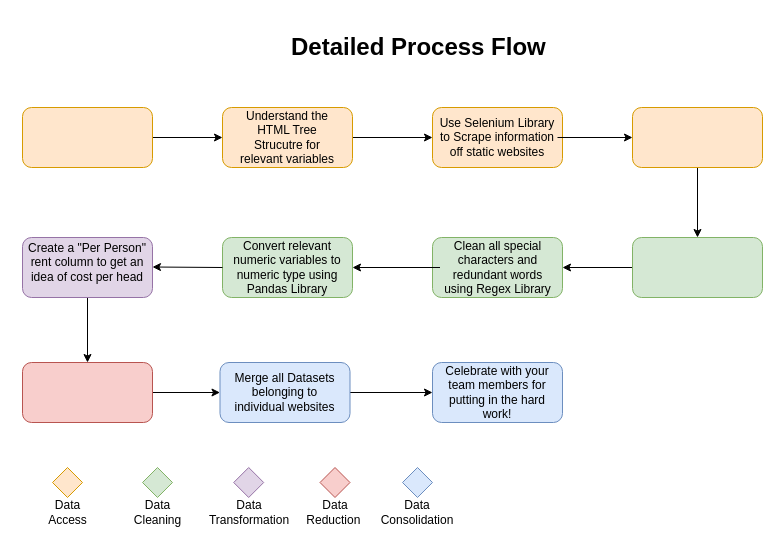
Some shapes in this 780 by 544 pixel diagram are drawn without their labels. The centre of each missing label's shape, as x and y in pixels:
Identify the website with most number of diverse listings.: point (87, 137)
Merge the listing information dataframe with "Distance" Dataframe: point (697, 267)
Remove all rows which have Null values in "Rent" column: point (87, 392)
Store observations/rows as a Pandas Dataframe: point (697, 137)
